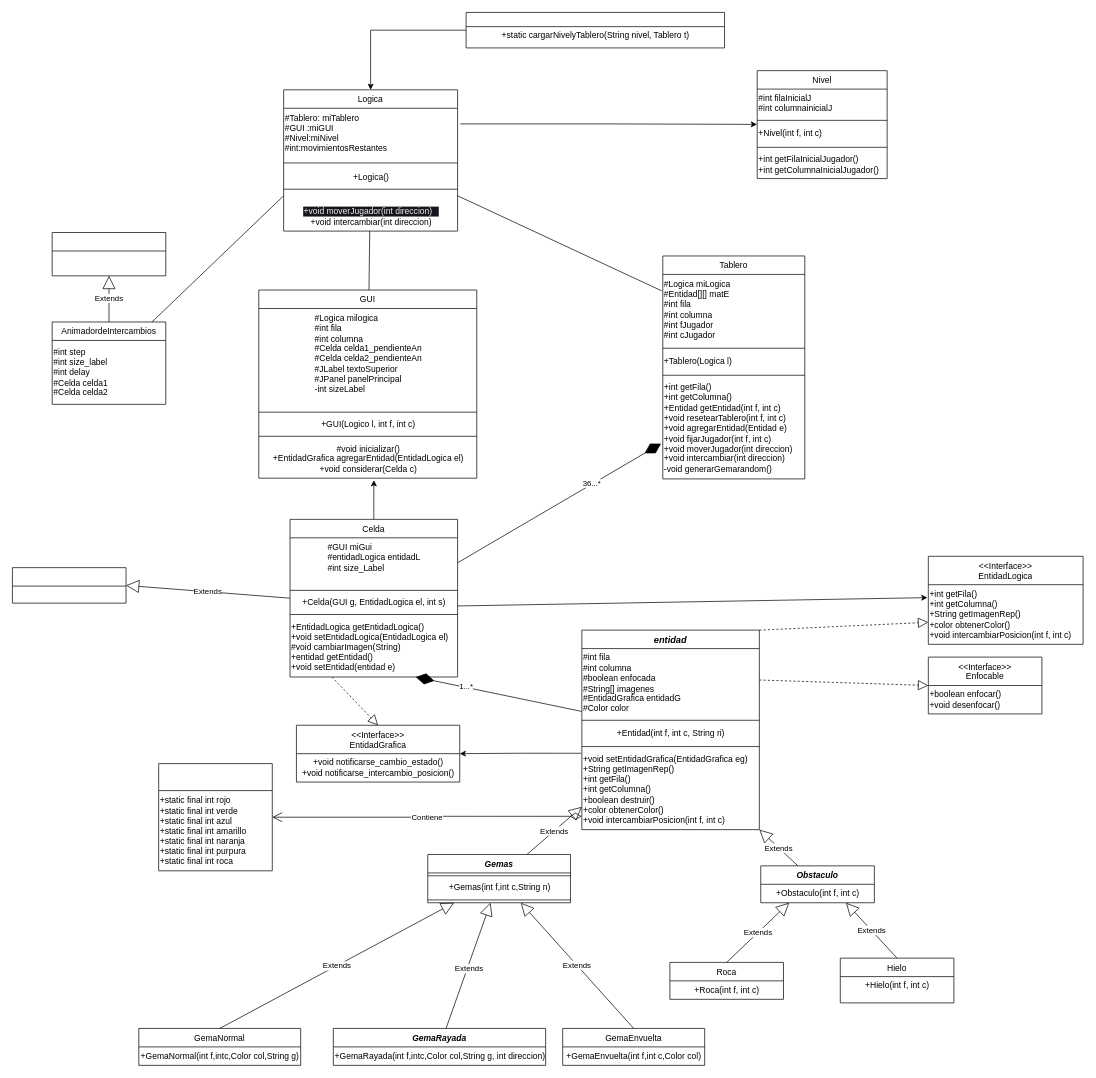
The diagram is 1096 pixels wide and 1078 high, and some of its shapes have lost their labels. Here are the shapes that lost their labels. From the top down, the box of each, then its label:
(465, 12, 725, 48): GeneradorNivel
(51, 232, 166, 276): Threads
(12, 567, 126, 603): JLabel
(158, 763, 272, 871): Color
